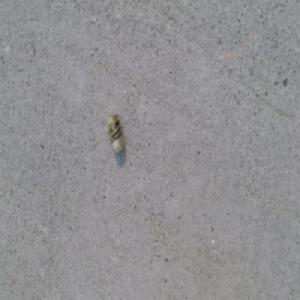BoltNutSet: (106, 116, 124, 155)
